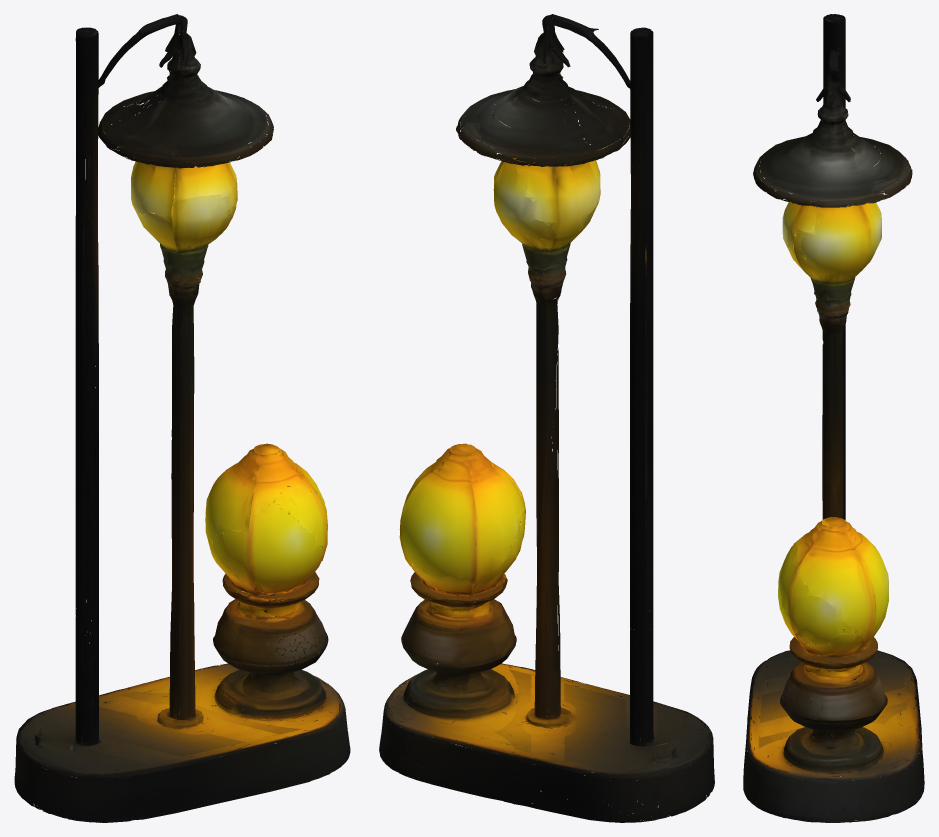
Rendered from hunyuan-fountain.glb.
3 renders of one model, left to right at view 1: azimuth 30°, elevation 25°; view 2: azimuth 150°, elevation 25°; view 3: azimuth 270°, elevation 25°, orthographic. The views are drawn at different scales.
Visible parts, largest first — view 1: node_0; view 2: node_0; view 3: node_0.
Part boxes in pixels (left/top/right/bottom): node_0: left=14, top=14, right=350, bottom=822; node_0: left=379, top=14, right=714, bottom=822; node_0: left=743, top=14, right=924, bottom=822.
Bounding box in the file's own units: 0.4695 × 1.11 × 0.2609.
1 material, 1 textured.
